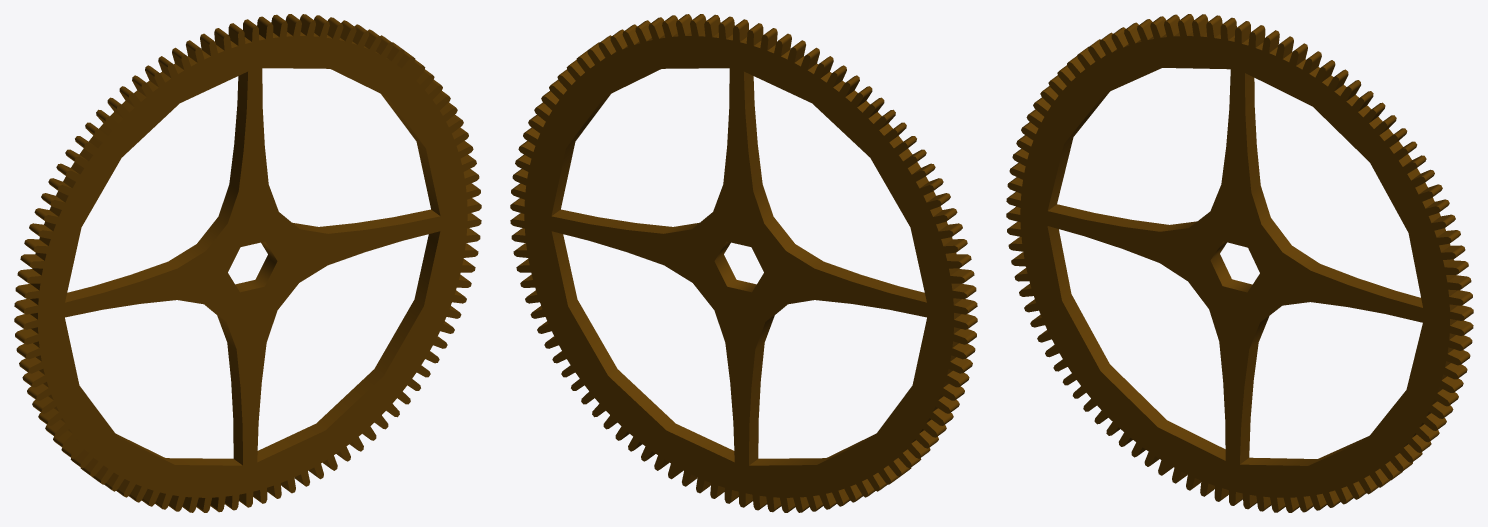
File: Roue dente_Roue etoile Heures.obj
3 renders of one model, left to right at view 1: azimuth 30°, elevation 25°; view 2: azimuth 150°, elevation 25°; view 3: azimuth 330°, elevation 25°, orthographic.
Visible parts, largest first — view 1: Face_1, Face_402, Face_409, Face_408, Face_403, Face_407, Face_397, Face_398, Face_406, Face_411; view 2: Face_2, Face_402, Face_409, Face_408, Face_403, Face_407, Face_397, Face_398, Face_406, Face_411; view 3: Face_1, Face_406, Face_396, Face_395, Face_397, Face_401, Face_407, Face_410, Face_402, Face_411.
Part boxes in pixels (x1,y1,x2,y2): Face_1: [23, 21, 481, 512]; Face_402: [257, 231, 440, 462]; Face_409: [229, 71, 247, 190]; Face_408: [168, 184, 238, 268]; Face_403: [227, 343, 242, 465]; Face_407: [65, 261, 177, 302]; Face_397: [319, 209, 439, 233]; Face_398: [381, 94, 440, 215]; Face_406: [115, 433, 242, 465]; Face_411: [235, 241, 277, 292]; Face_2: [510, 21, 968, 512]; Face_402: [551, 231, 734, 462]; Face_409: [744, 71, 762, 190]; Face_408: [753, 184, 823, 268]; Face_403: [749, 343, 764, 465]; Face_407: [814, 261, 926, 302]; Face_397: [552, 209, 672, 233]; Face_398: [551, 94, 610, 215]; Face_406: [749, 433, 876, 465]; Face_411: [714, 241, 756, 292]; Face_1: [1006, 21, 1464, 512]; Face_406: [1047, 226, 1225, 460]; Face_396: [1251, 185, 1319, 270]; Face_395: [1245, 73, 1260, 191]; Face_397: [1311, 264, 1422, 307]; Face_401: [1240, 343, 1258, 463]; Face_407: [1048, 204, 1168, 231]; Face_410: [1047, 91, 1109, 210]; Face_402: [1240, 436, 1368, 465]; Face_411: [1210, 241, 1252, 292].
Bounding box in the file's own units: 0.0646 × 0.0646 × 0.0023.
